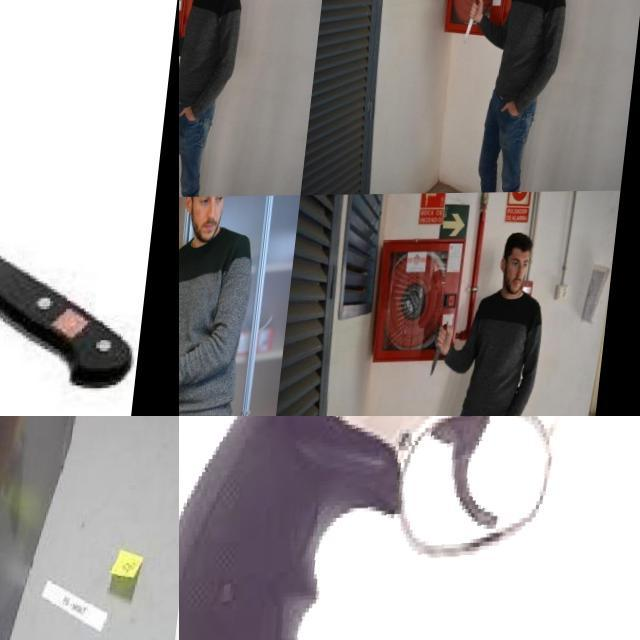-: (0, 0, 179, 393), (440, 320, 459, 380), (465, 0, 483, 47), (179, 356, 199, 382), (179, 6, 189, 36)
gun-knife-thesis - v11 Yolov5 augmented: (179, 416, 640, 640)
